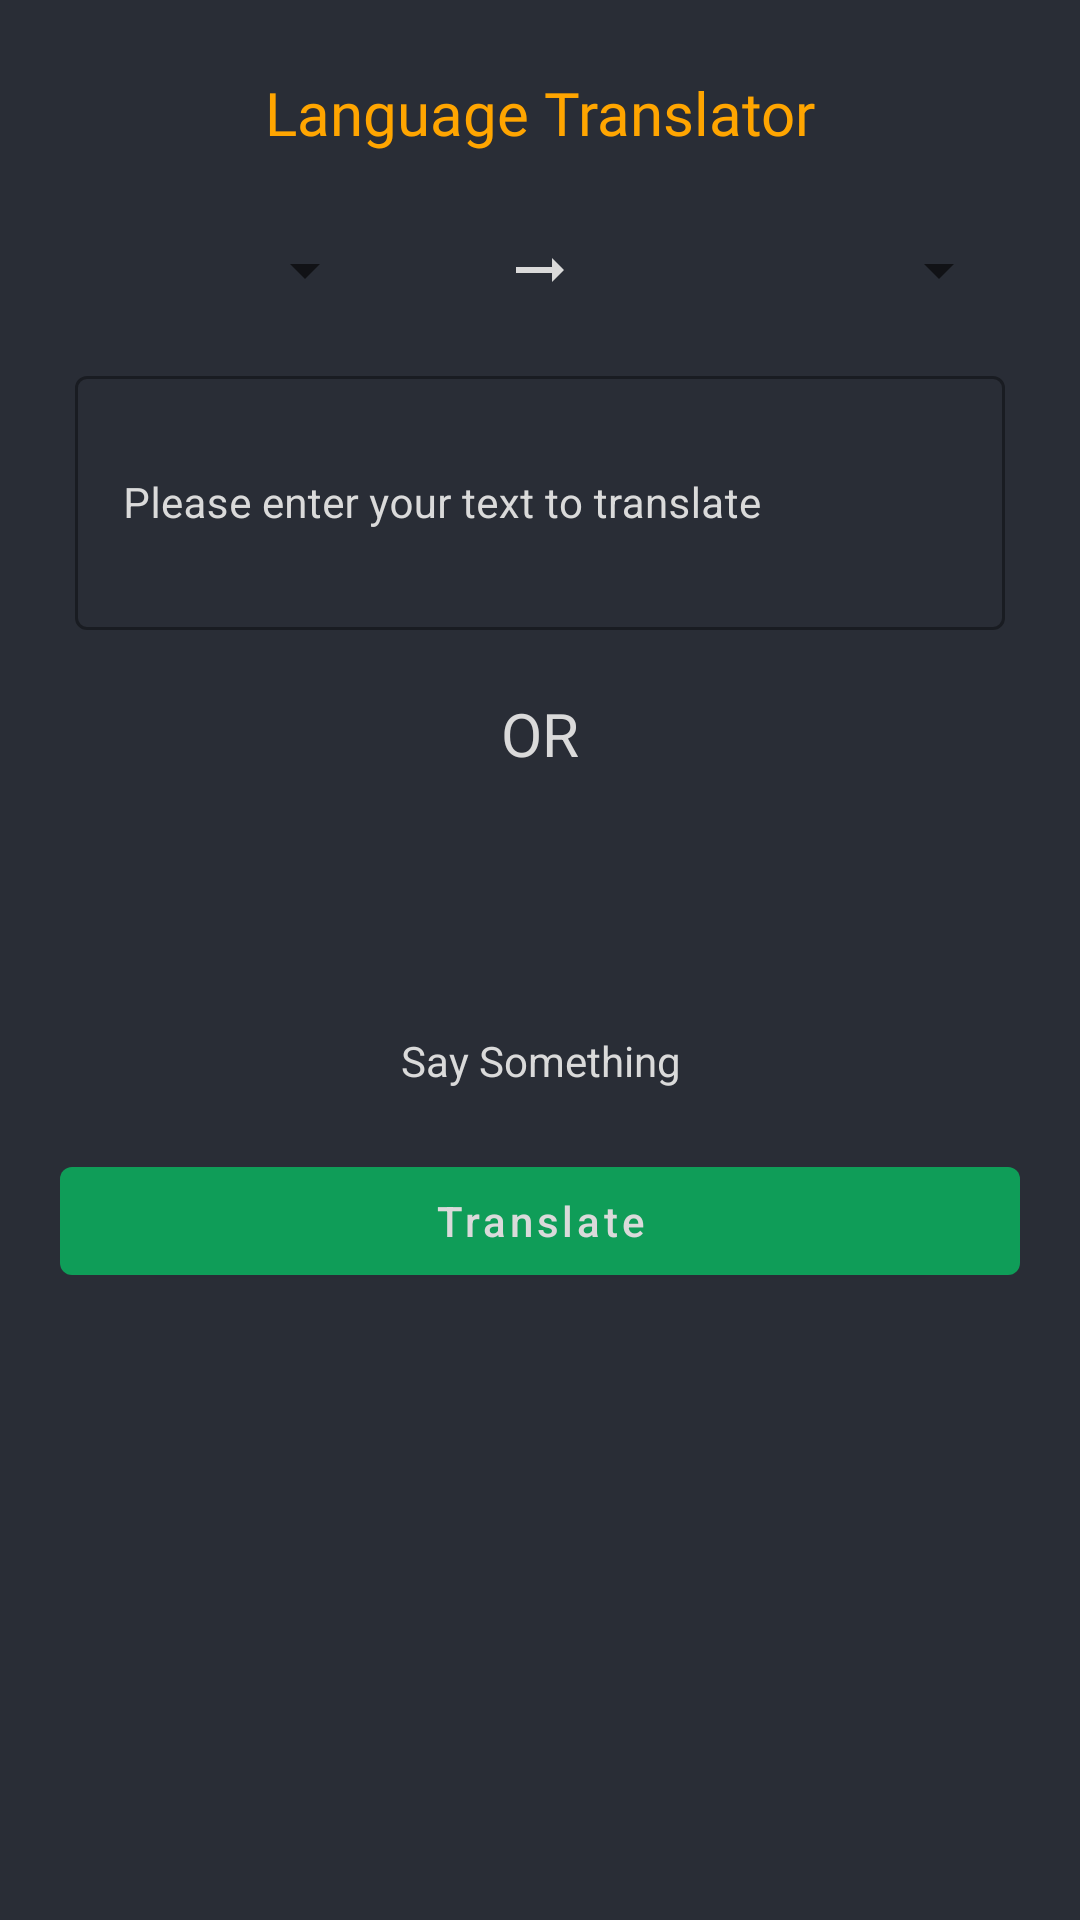

Point at icon controls on the screen. Image size 1080*1920, points as (x,y).
right arrow: (540,270)
